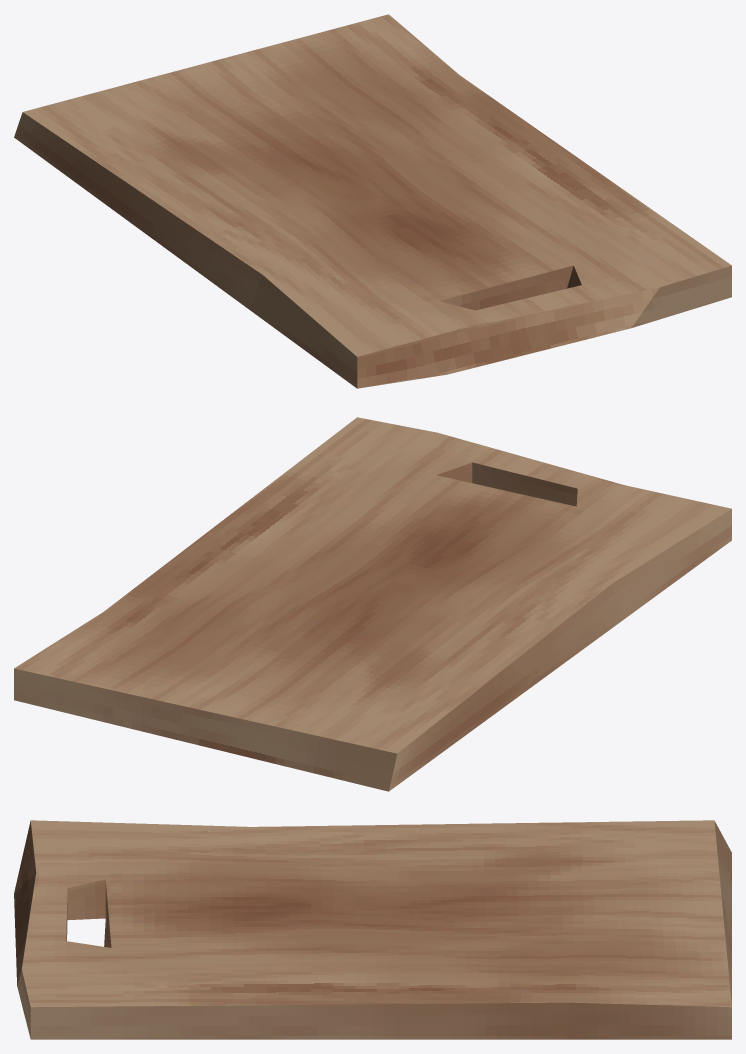
Rendered from manaita.fbx.
3 renders of one model, top to bottom at view 1: azimuth 30°, elevation 25°; view 2: azimuth 150°, elevation 25°; view 3: azimuth 270°, elevation 25°, orthographic. The views are drawn at different scales.
Parts seen in each view (by area): view 1: Cube; view 2: Cube; view 3: Cube.
Boxes of the visible parts, box(x1,y1,x2,y2) form: Cube: box(14, 14, 731, 388); Cube: box(14, 417, 731, 791); Cube: box(14, 820, 731, 1039).
Size of the model in its own units: 200 by 16.2 by 325.
1 material, 1 textured.
